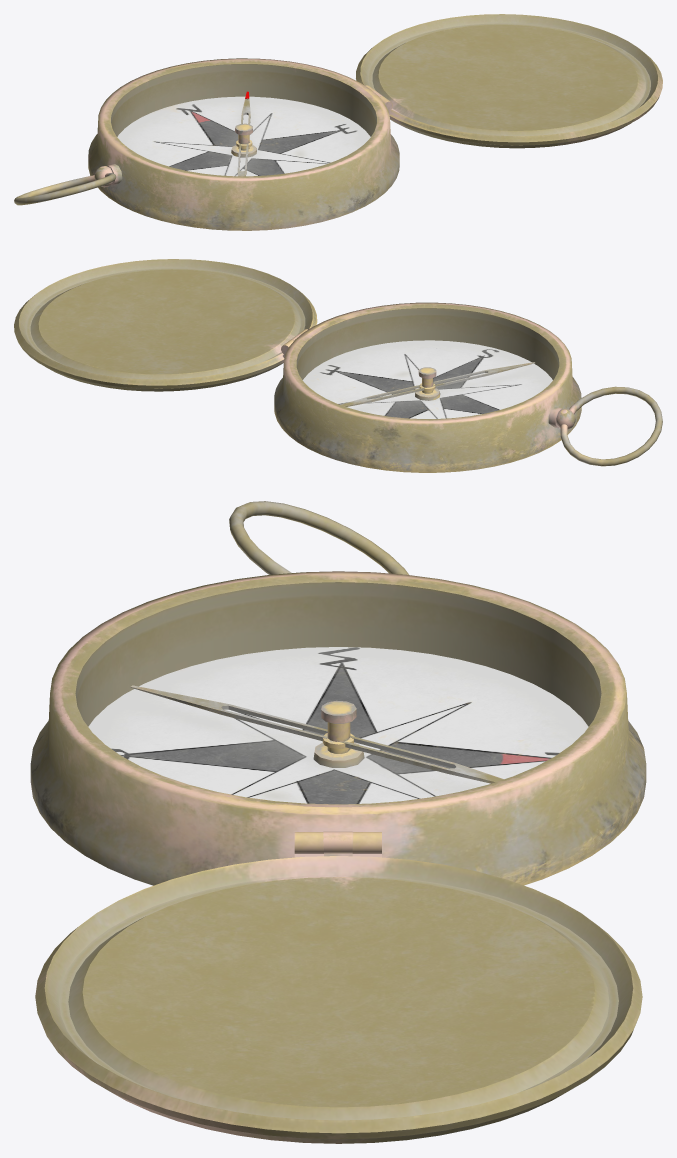
The model's file is Compass.fbx.
3 renders of one model, top to bottom at view 1: azimuth 30°, elevation 25°; view 2: azimuth 150°, elevation 25°; view 3: azimuth 270°, elevation 25°, orthographic. The views are drawn at different scales.
Visible parts, largest first — view 1: Compass, Arrow; view 2: Compass, Arrow; view 3: Compass, Arrow.
Part boxes in pixels (x1,y1,x2,y2): Compass: [14, 14, 662, 230]; Arrow: [236, 91, 252, 176]; Compass: [14, 259, 662, 472]; Arrow: [341, 362, 534, 406]; Compass: [30, 501, 646, 1143]; Arrow: [130, 685, 503, 783].
Bounding box in the file's own units: 200 × 14.06 × 86.17.
Materials: 1 (1 with a texture image).
